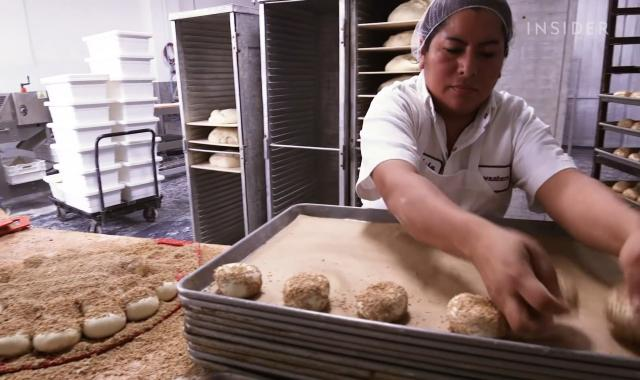hairnet: (409, 0, 518, 58)
